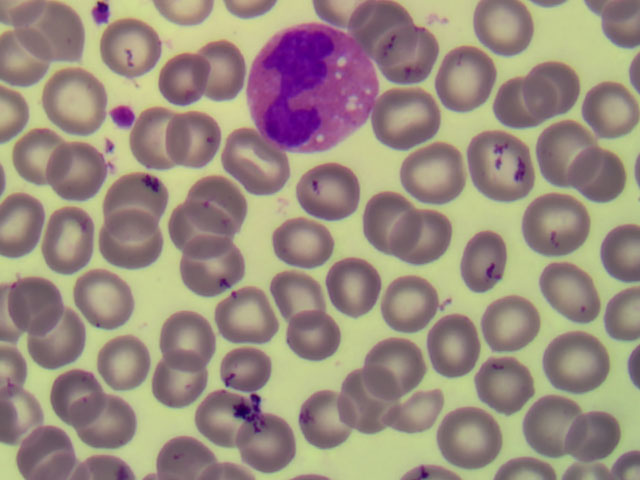Platelets: (106, 102, 138, 132), (90, 3, 110, 25)
RBC: (8, 411, 76, 480), (38, 64, 106, 132), (2, 118, 70, 186), (35, 138, 103, 206), (31, 208, 99, 276), (92, 215, 160, 283), (104, 161, 172, 229), (117, 111, 185, 179), (150, 107, 218, 175), (141, 48, 209, 116), (174, 34, 242, 102), (105, 22, 173, 90), (432, 43, 500, 111), (382, 77, 450, 145), (390, 28, 458, 96), (349, 3, 417, 71), (484, 63, 552, 131), (512, 55, 580, 123), (476, 3, 544, 71), (568, 72, 636, 140), (530, 114, 598, 182), (570, 150, 638, 218), (471, 131, 539, 199), (404, 136, 472, 204), (354, 185, 422, 253), (394, 206, 462, 274), (300, 158, 368, 226), (272, 207, 340, 275), (223, 132, 291, 200), (191, 160, 259, 228), (165, 189, 233, 257), (175, 224, 243, 292), (60, 264, 128, 332), (2, 263, 70, 331), (17, 306, 85, 374), (33, 352, 101, 420), (75, 386, 143, 454), (89, 326, 157, 394), (140, 355, 208, 423), (153, 301, 221, 369), (202, 284, 270, 352), (209, 321, 277, 389), (186, 367, 254, 435), (222, 401, 290, 469), (289, 389, 357, 457), (331, 378, 399, 446), (356, 335, 424, 403), (284, 306, 352, 374), (263, 259, 331, 327), (305, 253, 373, 321), (365, 261, 433, 329), (418, 309, 486, 377), (471, 292, 539, 360), (457, 232, 525, 300), (543, 264, 611, 332), (527, 192, 595, 260), (543, 321, 611, 389), (473, 349, 541, 417), (435, 396, 503, 464), (513, 389, 581, 457), (16, 1, 84, 68), (1, 25, 68, 93), (1, 185, 68, 253), (565, 407, 617, 467)
WBC: (239, 23, 376, 156)
